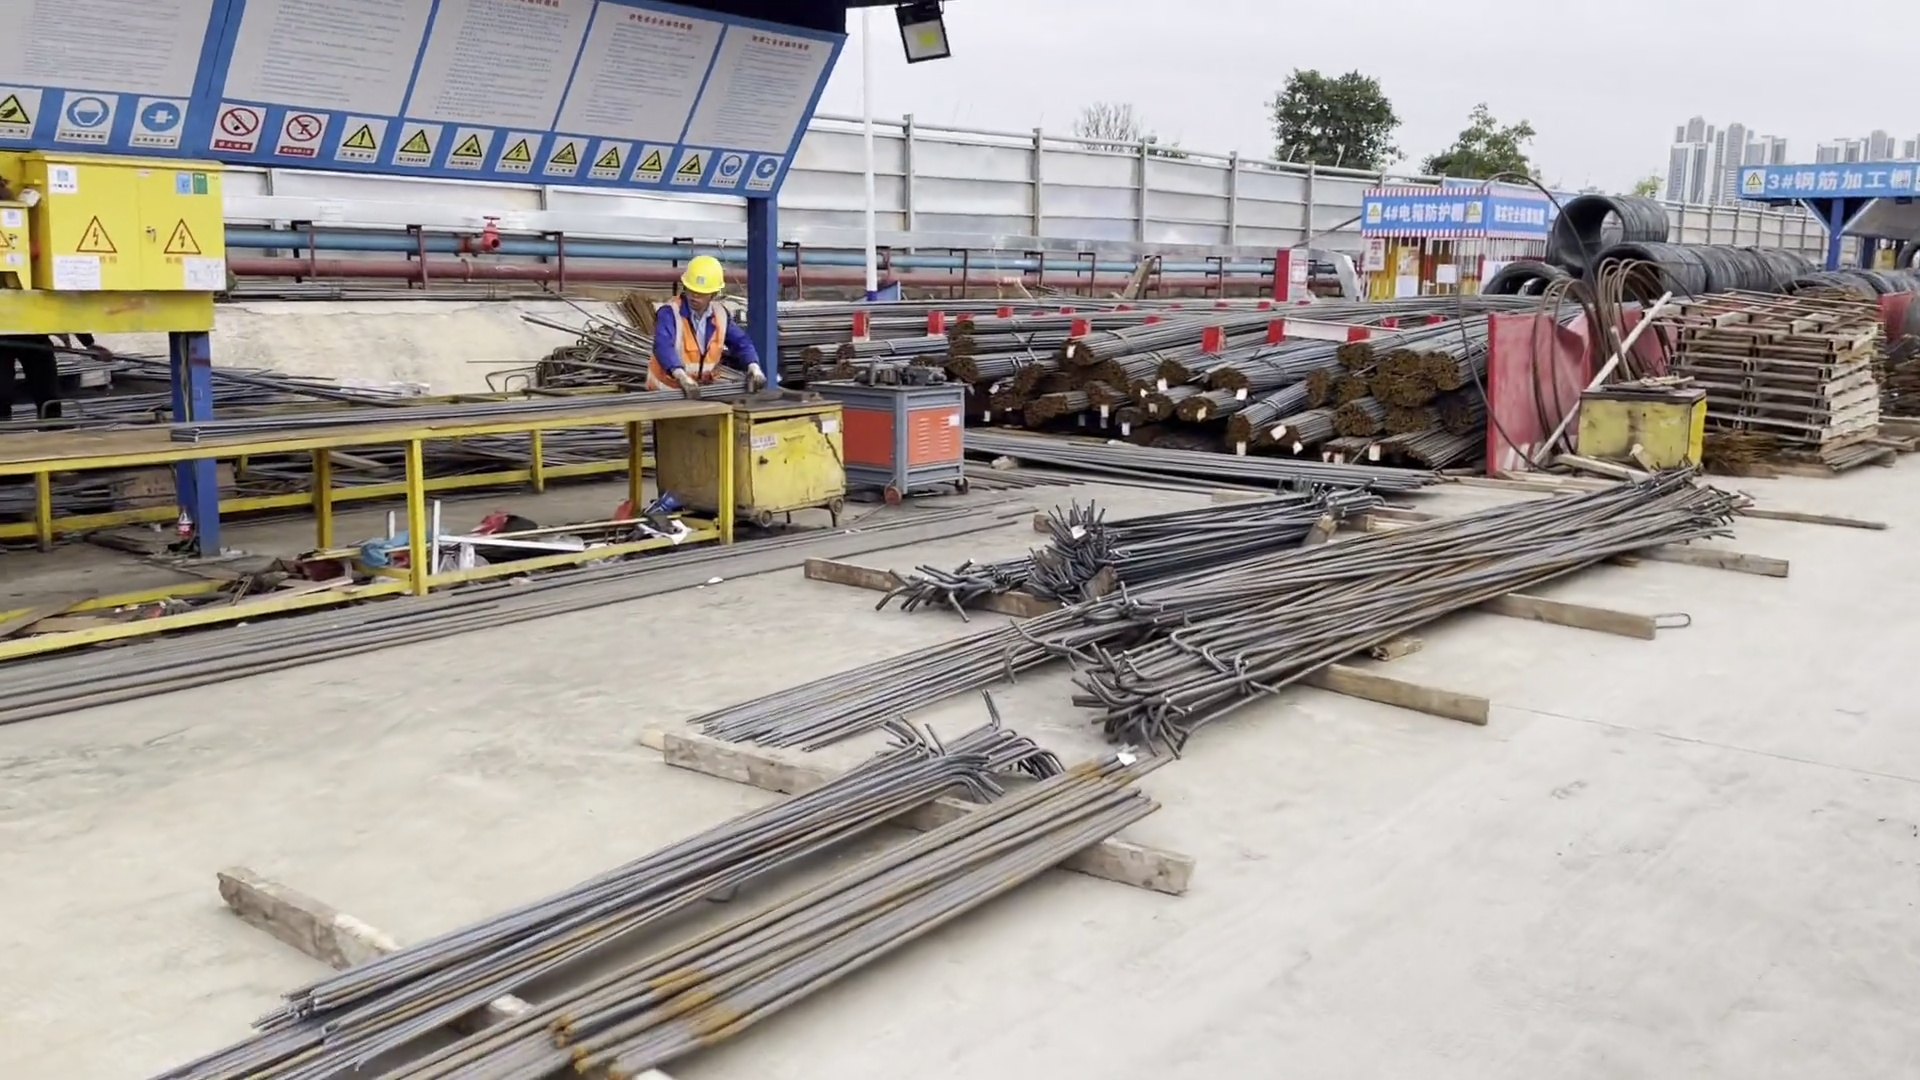ebox: (25, 134, 254, 306)
helmet: (681, 253, 723, 291)
person: (633, 254, 764, 389)
rebar: (155, 739, 999, 1069), (450, 738, 1119, 1080), (1132, 500, 1730, 741), (1145, 457, 1758, 635), (697, 611, 1126, 743), (908, 490, 1307, 620), (1206, 323, 1439, 390), (1064, 311, 1254, 366), (1331, 308, 1489, 367), (949, 302, 1174, 338), (1380, 322, 1494, 375), (1226, 383, 1317, 448), (1323, 435, 1472, 472), (1230, 342, 1352, 386), (1259, 406, 1336, 454), (1428, 337, 1506, 383), (844, 326, 950, 359), (941, 354, 1063, 376), (1025, 383, 1086, 426), (1437, 386, 1494, 434), (949, 335, 1070, 355), (1131, 387, 1181, 432), (1328, 400, 1392, 435), (1157, 349, 1222, 382), (1175, 394, 1240, 426), (1380, 405, 1445, 435), (1334, 369, 1396, 401), (1012, 356, 1060, 393), (1299, 365, 1339, 408), (1086, 360, 1141, 390), (988, 375, 1026, 416), (1390, 380, 1443, 409), (1086, 381, 1133, 413), (800, 340, 842, 363)
vest: (659, 297, 730, 376)
